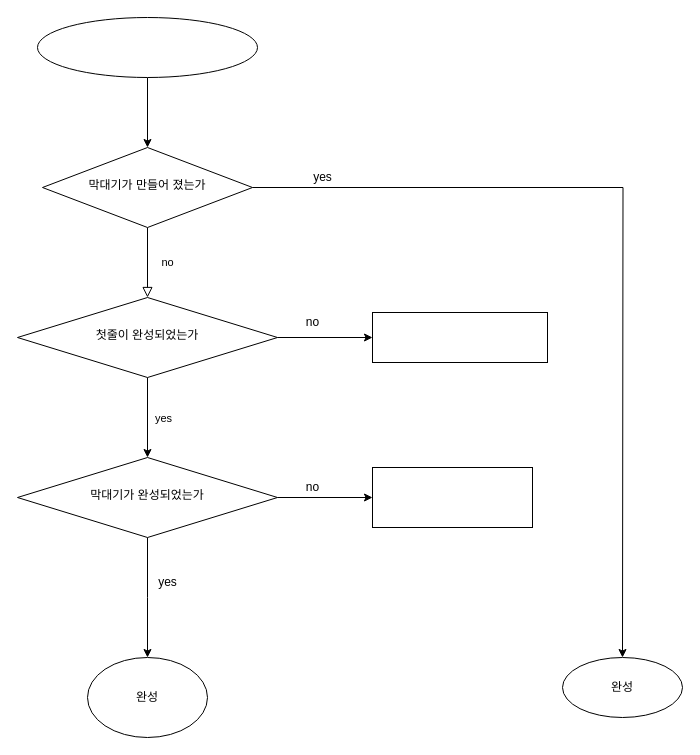
Some shapes in this 700 by 755 pixel diagram are drawn without their labels. Each missing label, with the centre of its shape:
띄어쓰기를 한뒤 | | 를 쓴다.: the point at 460,337
막대기 만들기: the point at 147,47
첫줄을 5번 반복한다.: the point at 452,497
